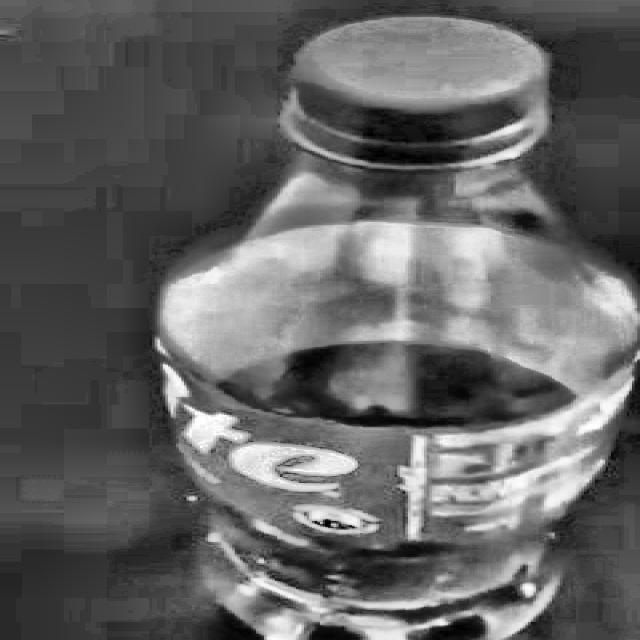bottle: (152, 17, 640, 640)
